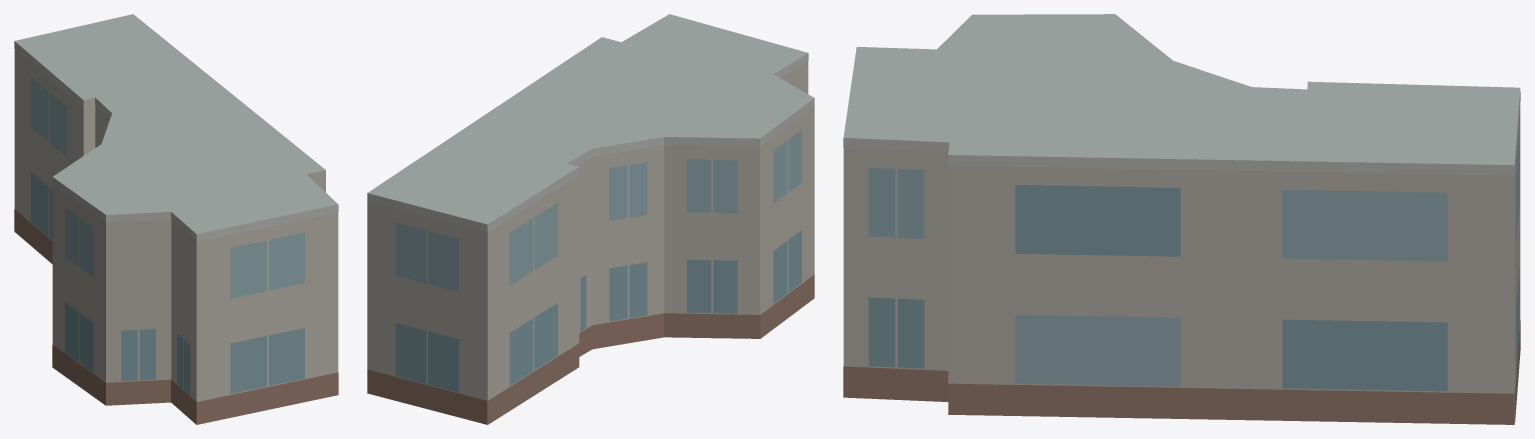
The model's file is survey-upis-33007611.glb.
3 views of the same model, side by side, from view 1: azimuth 30°, elevation 25°; view 2: azimuth 150°, elevation 25°; view 3: azimuth 270°, elevation 25° (orthographic). The views are drawn at different scales.
Visible parts, largest first — view 1: survey-upis-33007611.tmp; view 2: survey-upis-33007611.tmp; view 3: survey-upis-33007611.tmp.
Boxes of the visible parts, box(x1,y1,x2,y2) form: survey-upis-33007611.tmp: box(14, 14, 338, 424); survey-upis-33007611.tmp: box(367, 14, 814, 424); survey-upis-33007611.tmp: box(843, 14, 1520, 424).
Bounding box in the file's own units: 7.62 × 6.1 × 14.42.
